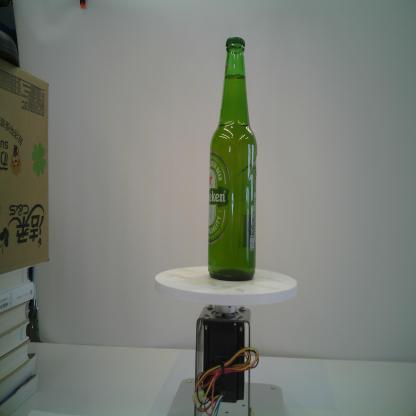Alcohol: (206, 35, 260, 284)
